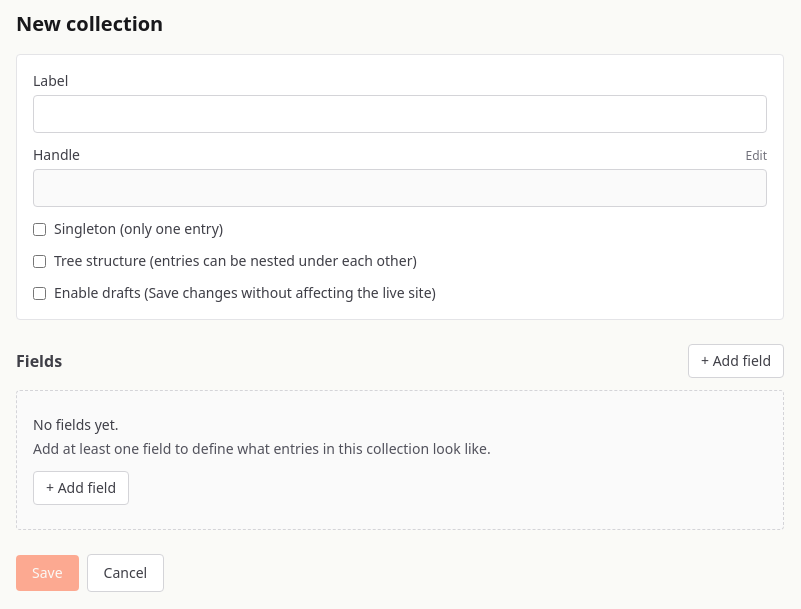
BlueprintEditor › reset returns handle to the slugified label
Type "Pages" into the field with test id "blueprint-label" at [400, 114], box [33,95,767,133]
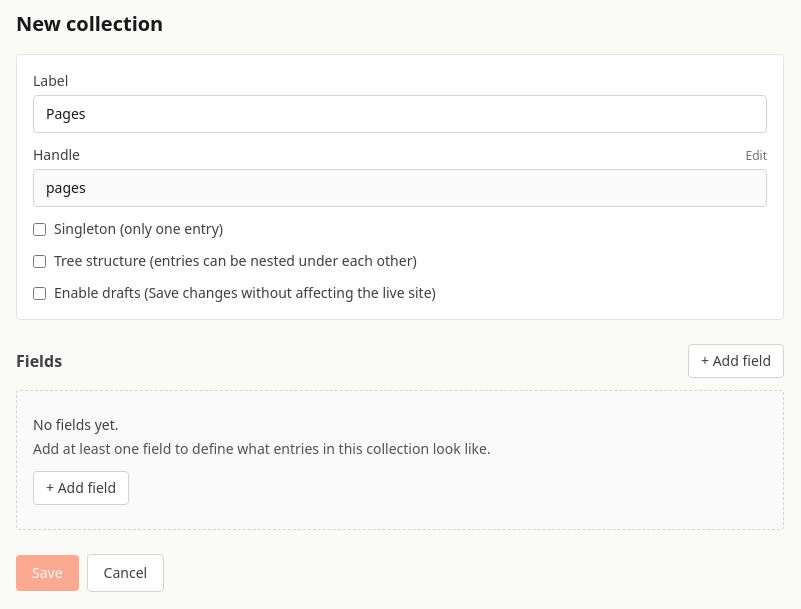
Click the button with test id "handle-edit" at [756, 156], box [746,148,767,164]
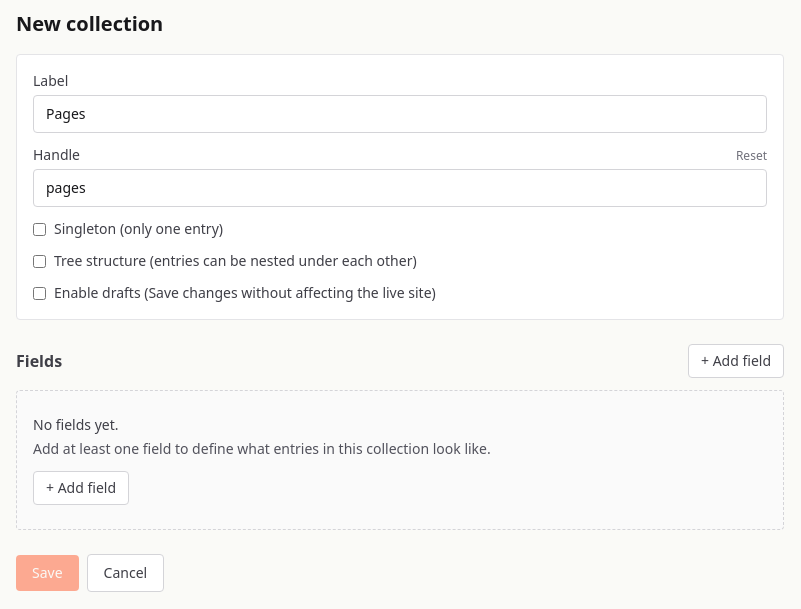
Replace the text in the field with test id "blueprint-handle" with "something-else" at [400, 188], box [33,169,767,207]
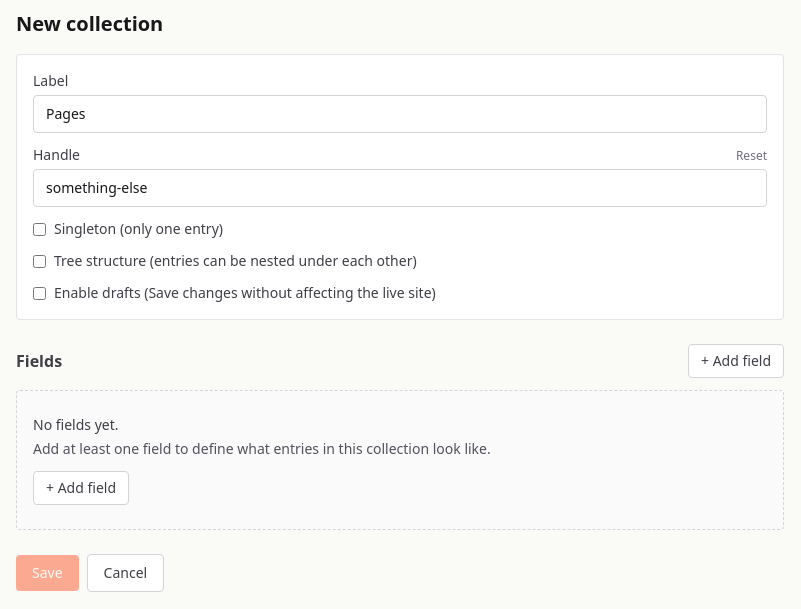
Click the button with test id "handle-reset" at [751, 156], box [736,148,767,164]
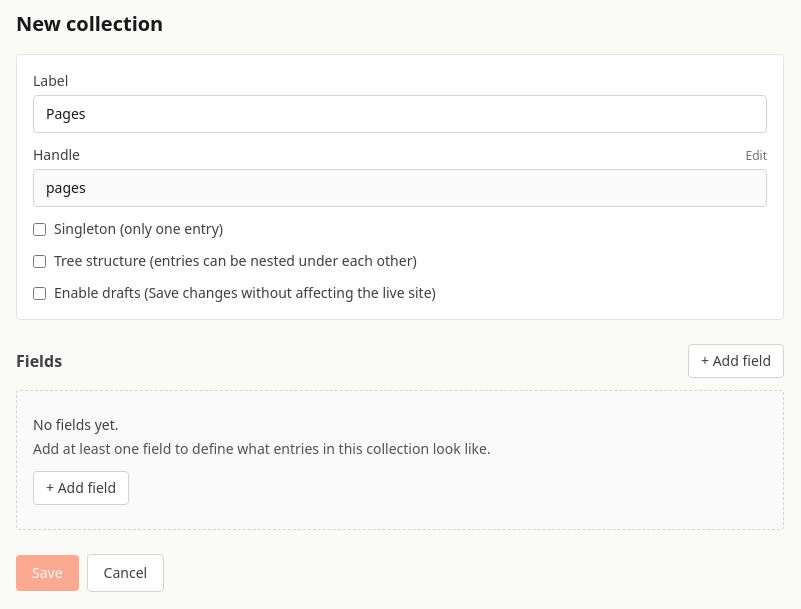
Expected: the field with test id "blueprint-handle" holds "pages", [33,169,767,207]
// After reset, typing into Label should sync again.
Replace the text in the field with test id "blueprint-label" with "Posts" at [400, 114], box [33,95,767,133]
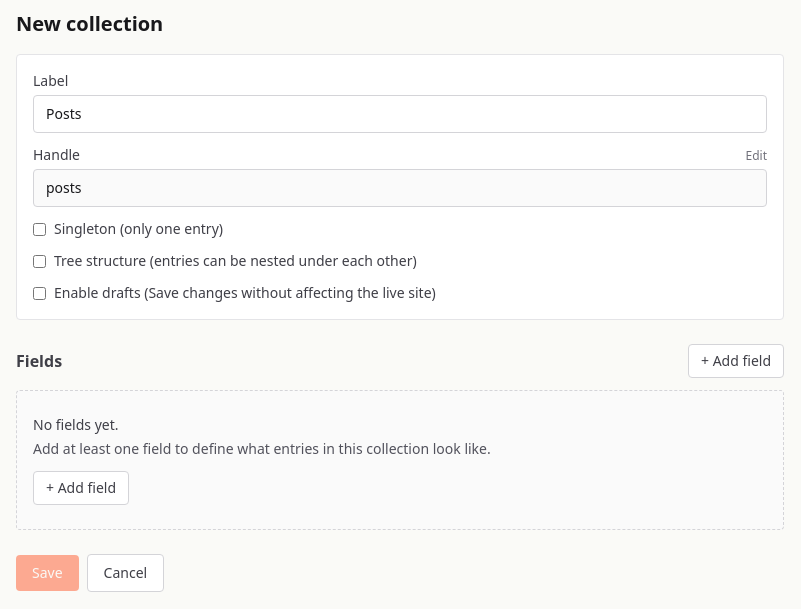
Expected: the field with test id "blueprint-handle" holds "posts", [33,169,767,207]
